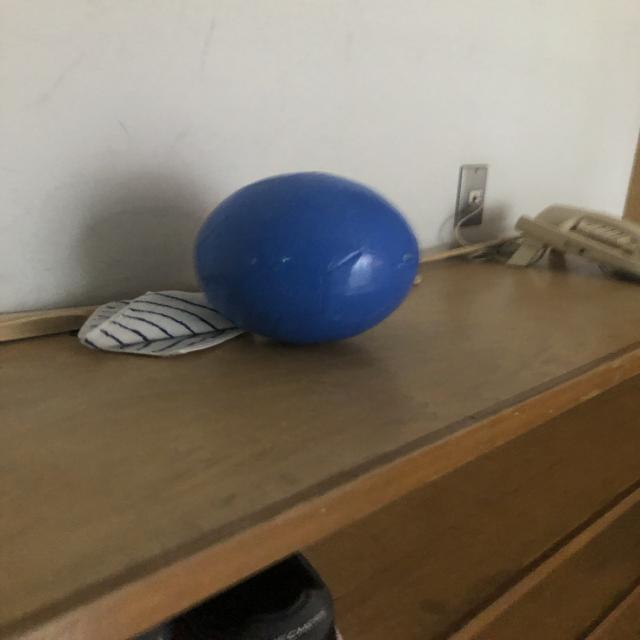blue_ball: (189, 165, 419, 349)
